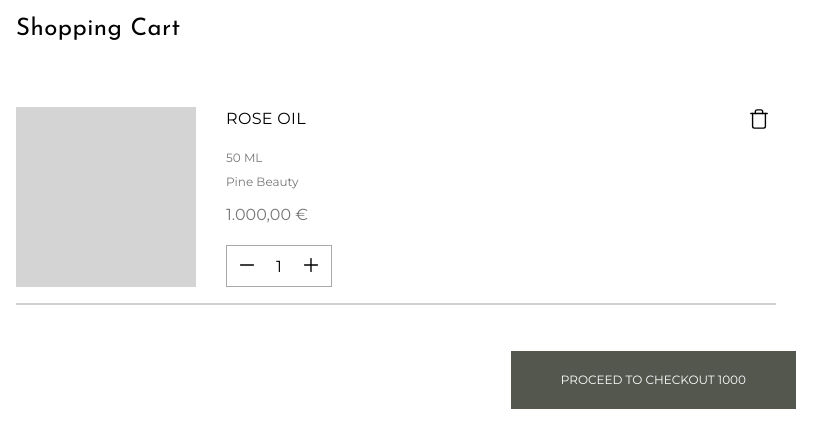
Test: CartPage actions › increases item quantity when increase button clicked
What coordinates should you click on to do the following:
click the button named "increase quantity"
I would click on:
 (311, 266)
Its box is [294,252,328,280].
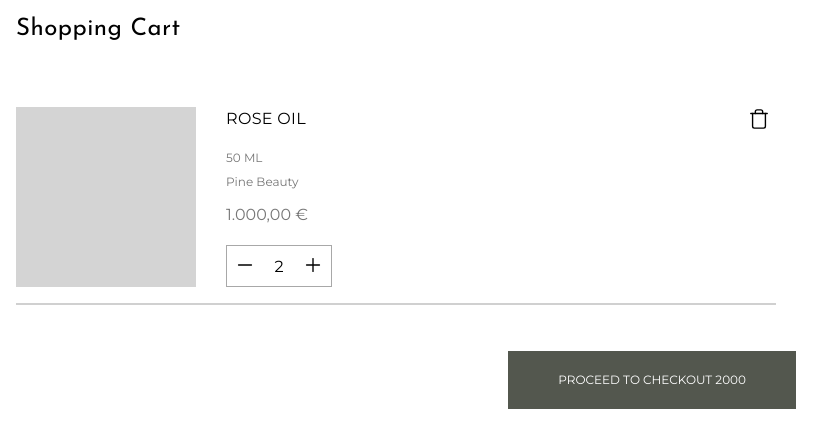
Expected: the text named "Quantity" reads "2", [274,256,284,276]
